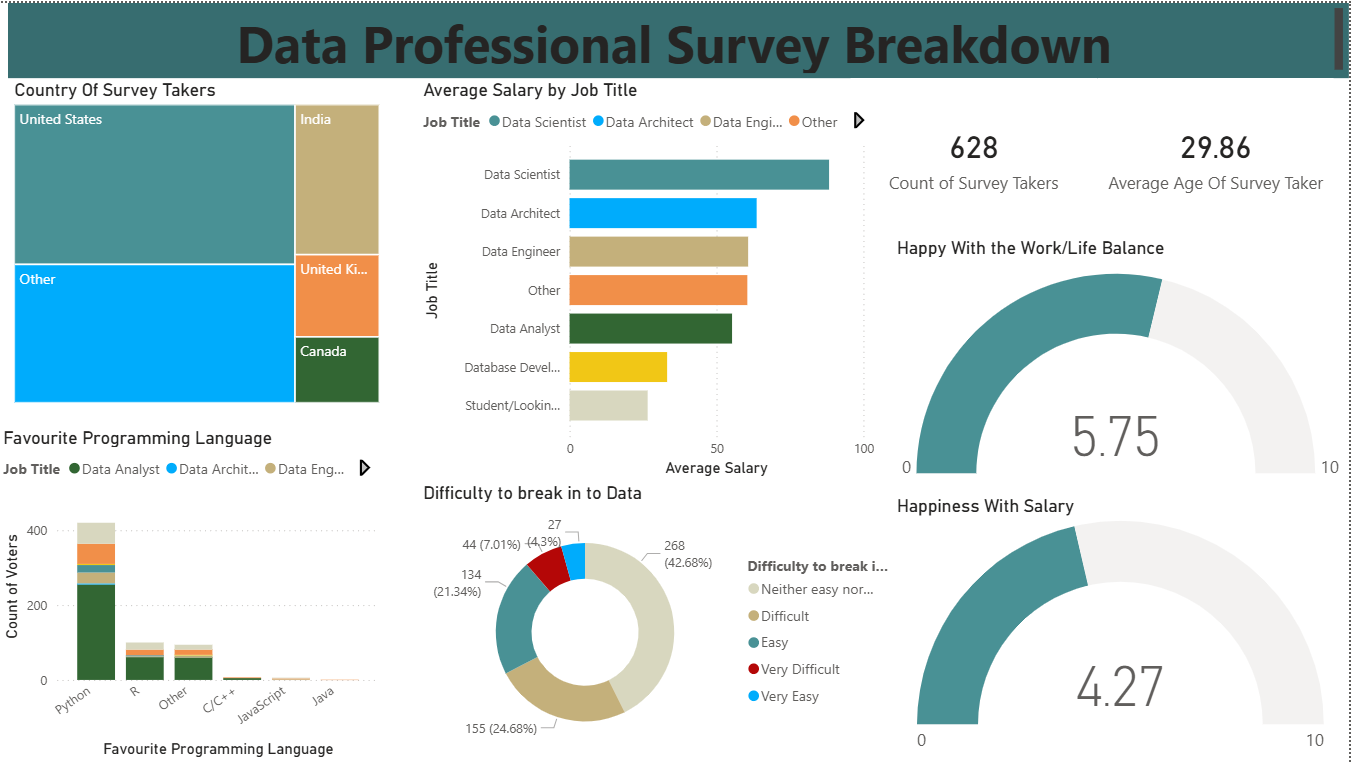

Layout of this report page (visuals, bound fields, positions):
{"tool":"powerbi","page":{"name":"Page 1","canvas":[1280,720],"ordinal":0},"visuals":[{"type":"textbox","box":[10,0,1270,71.1],"z":0},{"type":"card","fields":{"Values":["CountNonNull(Data Professional Survey.Unique ID)"]},"box":[808.1,70.9,233.7,150],"z":1000},{"type":"card","fields":{"Values":["Avg(Data Professional Survey.Q10 - Current Age)"]},"box":[1041.9,70.9,223.3,150],"z":2000},{"type":"barChart","title":"Average Salary by Job Title","fields":{"Category":["Data Professional Survey.Q1 - Which Title Best Fits your Current Role?.1"],"Y":["Avg(Data Professional Survey.Average Salary)"],"Series":["Data Professional Survey.Q1 - Which Title Best Fits your Current Role?.1"]},"box":[397.7,72.1,437.2,381.4],"z":3000},{"type":"columnChart","title":" Favourite Programming Language","fields":{"Category":["Data Professional Survey.Q5 - Favorite Programming Language.1.1"],"Y":["CountNonNull(Data Professional Survey.Unique ID)"],"Series":["Data Professional Survey.Q1 - Which Title Best Fits your Current Role?.1"]},"box":[0,401.2,366.3,318.6],"z":4000},{"type":"treemap","title":"Country Of Survey Takers","fields":{"Group":["Data Professional Survey.Q11 - Which Country do you live in?.1"],"Values":["CountNonNull(Data Professional Survey.Q11 - Which Country do you live in?.1)"]},"box":[10.5,72.1,355.8,311.6],"z":5000},{"type":"gauge","title":"Happy With the Work/Life Balance","fields":{"Y":["Avg(Data Professional Survey.Q6 - How Happy are you in your Current Position with the following? (Work/Life Balance))"],"MinValue":["Min(Data Professional Survey.Q6 - How Happy are you in your Current Position with the following? (Work/Life Balance))"],"MaxValue":["Max(Data Professional Survey.Q6 - How Happy are you in your Current Position with the following? (Work/Life Balance))1"]},"box":[846.5,220.9,433.7,245.3],"z":6000},{"type":"gauge","title":"Happiness With Salary","fields":{"Y":["Avg(Data Professional Survey.Q6 - How Happy are you in your Current Position with the following? (Salary))"],"MinValue":["Min(Data Professional Survey.Q6 - How Happy are you in your Current Position with the following? (Salary))"],"MaxValue":["Max(Data Professional Survey.Q6 - How Happy are you in your Current Position with the following? (Salary))"]},"box":[846.5,466.3,433.7,253.5],"z":7000},{"type":"donutChart","title":"Difficulty to break in to Data","fields":{"Category":["Data Professional Survey.Q7 - How difficult was it for you to break into Data?"],"Y":["CountNonNull(Data Professional Survey.Q7 - How difficult was it for you to break into Data?)"]},"box":[397.7,453.5,448.8,266.3],"z":8000}]}

Visuals, with their boxes in screenshot pixels (x1, y1, x2, y2), scaled from the page's 1280x720 canvas onto the 1353x763 screenshot:
textbox: l=11, t=0, r=1352, b=75
card - CountNonNull(Data Professional Survey.Unique ID): l=854, t=75, r=1101, b=234
card - Avg(Data Professional Survey.Q10 - Current Age): l=1101, t=75, r=1337, b=234
"Average Salary by Job Title" barChart: l=420, t=76, r=883, b=481
" Favourite Programming Language" columnChart: l=0, t=425, r=387, b=762
"Country Of Survey Takers" treemap: l=11, t=76, r=387, b=407
"Happy With the Work/Life Balance" gauge: l=895, t=234, r=1352, b=494
"Happiness With Salary" gauge: l=895, t=494, r=1352, b=762
"Difficulty to break in to Data" donutChart: l=420, t=481, r=895, b=762
